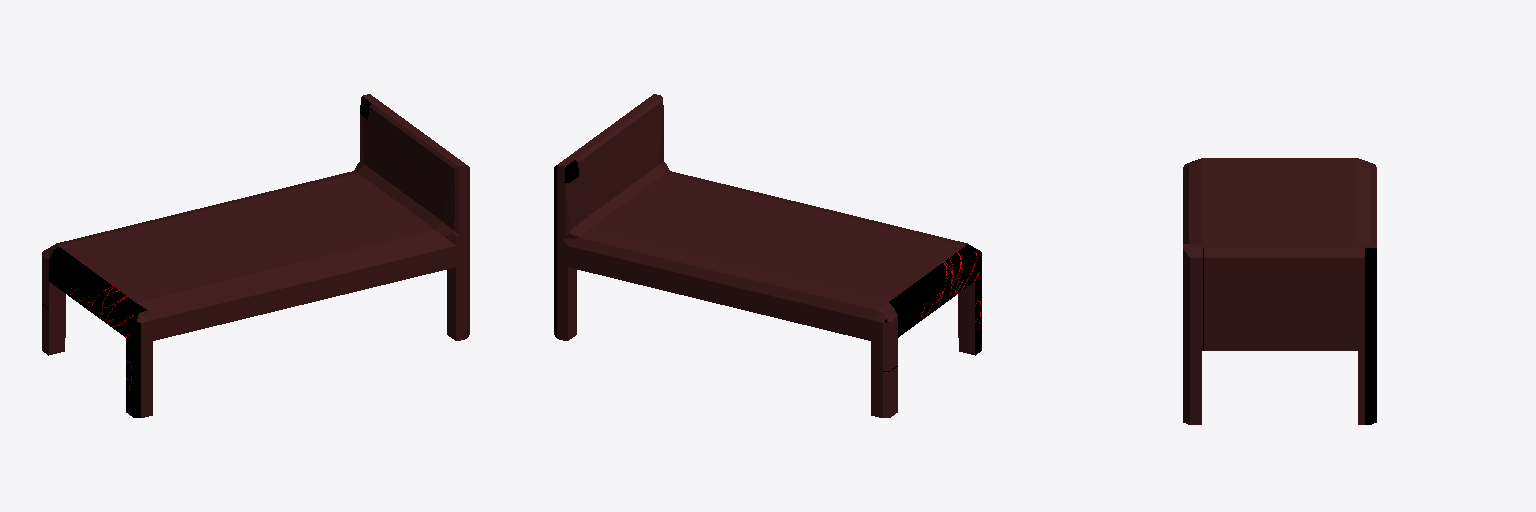
3 views of the same model, side by side, from view 1: azimuth 30°, elevation 25°; view 2: azimuth 150°, elevation 25°; view 3: azimuth 270°, elevation 25° (orthographic).
Visible parts, largest first — view 1: pCube4; view 2: pCube4; view 3: pCube4.
Part boxes in pixels (left/top/right/bottom): pCube4: left=42, top=94, right=469, bottom=417; pCube4: left=554, top=94, right=981, bottom=417; pCube4: left=1183, top=158, right=1376, bottom=424.
Size of the model in its own units: 2 by 0.9857 by 1.
1 materials, 1 textured.